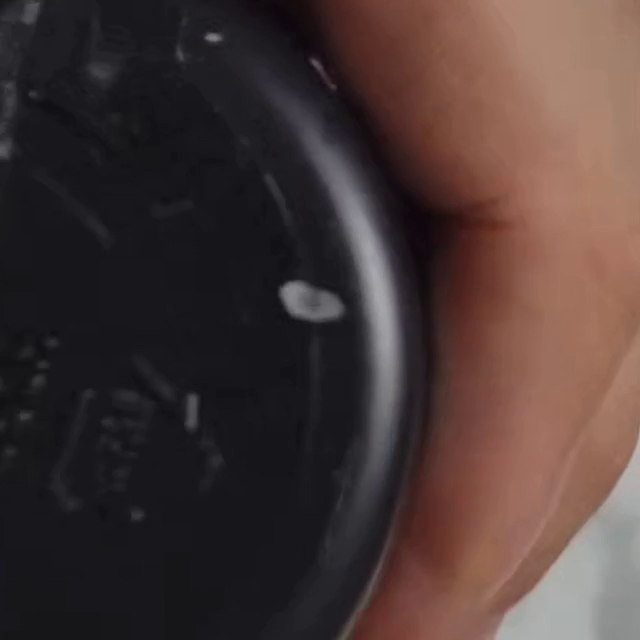Plastic: (47, 353, 222, 527)
